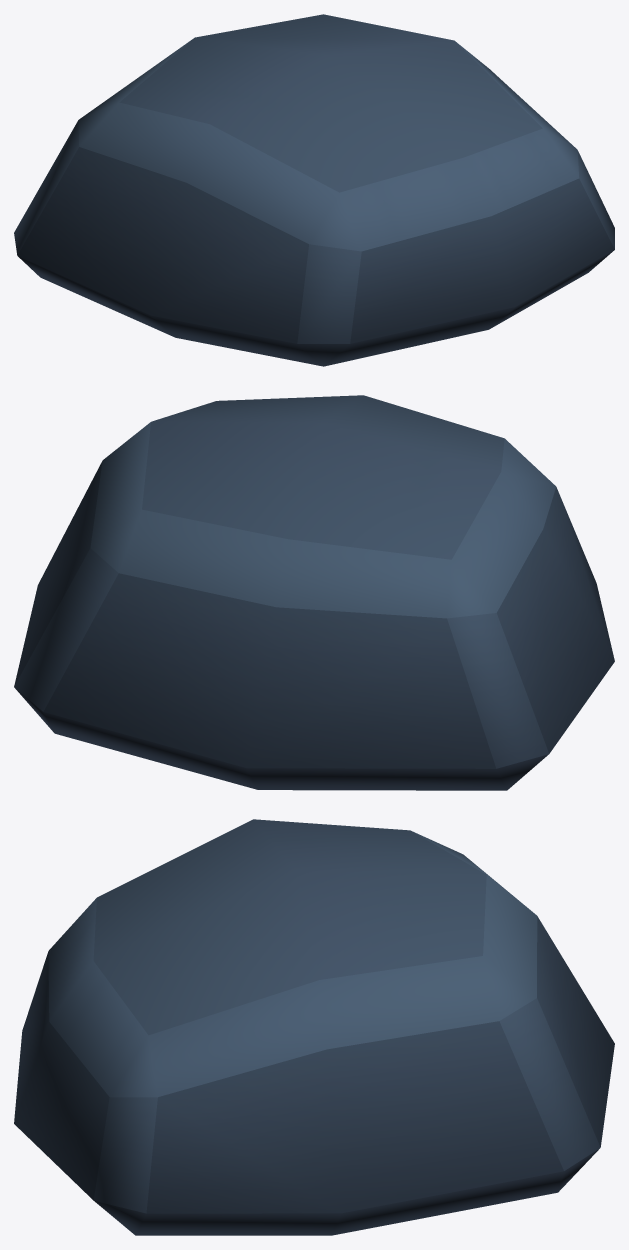
The model's file is rock_02.fbx.
The picture shows the model from 3 angles, top to bottom: view 1: azimuth 30°, elevation 25°; view 2: azimuth 150°, elevation 25°; view 3: azimuth 270°, elevation 25°; orthographic projection. The views are drawn at different scales.
Visible parts, largest first — view 1: rock_02; view 2: rock_02; view 3: rock_02.
Part boxes in pixels (<box>): rock_02: <box>14,14,614,366</box>; rock_02: <box>14,395,614,790</box>; rock_02: <box>14,819,614,1235</box>.
Size of the model in its own units: 60.19 by 25.82 by 55.6.
1 material, 1 textured.
